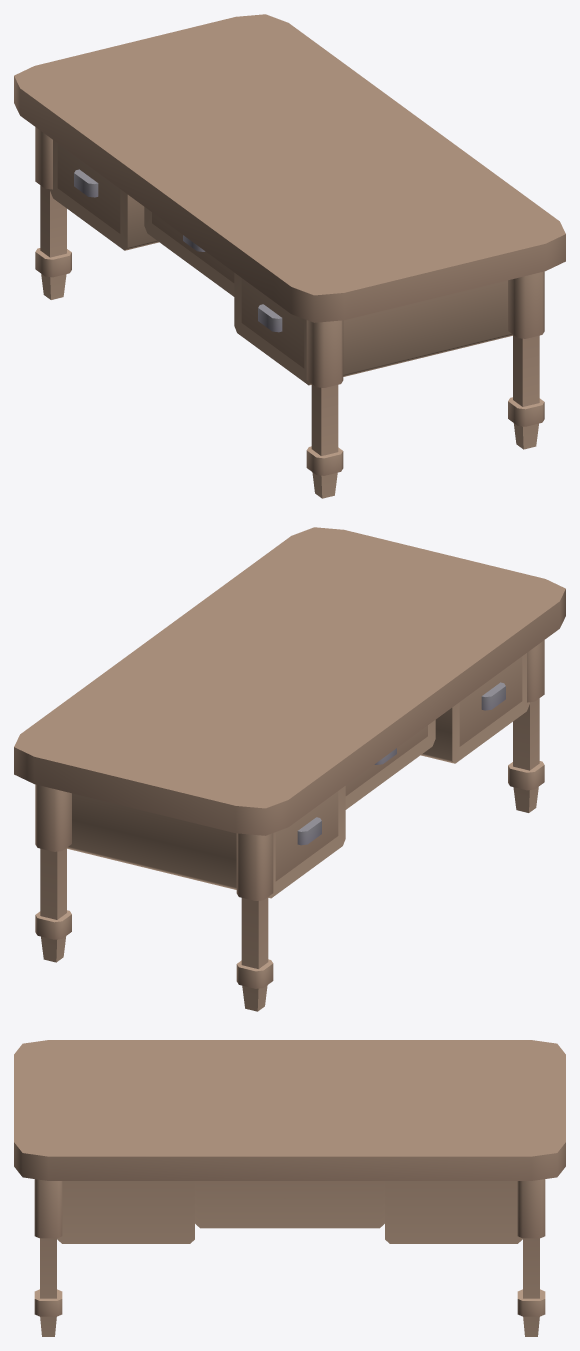
Rendered from desk-classic-drawers-center_0.glb.
3 views of the same model, one above another, from view 1: azimuth 30°, elevation 25°; view 2: azimuth 150°, elevation 25°; view 3: azimuth 270°, elevation 25° (orthographic). The views are drawn at different scales.
Parts seen in each view (by area): view 1: desk-classic-drawers-center; view 2: desk-classic-drawers-center; view 3: desk-classic-drawers-center.
Boxes of the visible parts, x1,y1,x2,y2 form: desk-classic-drawers-center: (14, 14, 565, 498); desk-classic-drawers-center: (14, 527, 565, 1011); desk-classic-drawers-center: (14, 1040, 565, 1336).
Bounding box in the file's own units: 0.8 × 0.6146 × 1.6.
